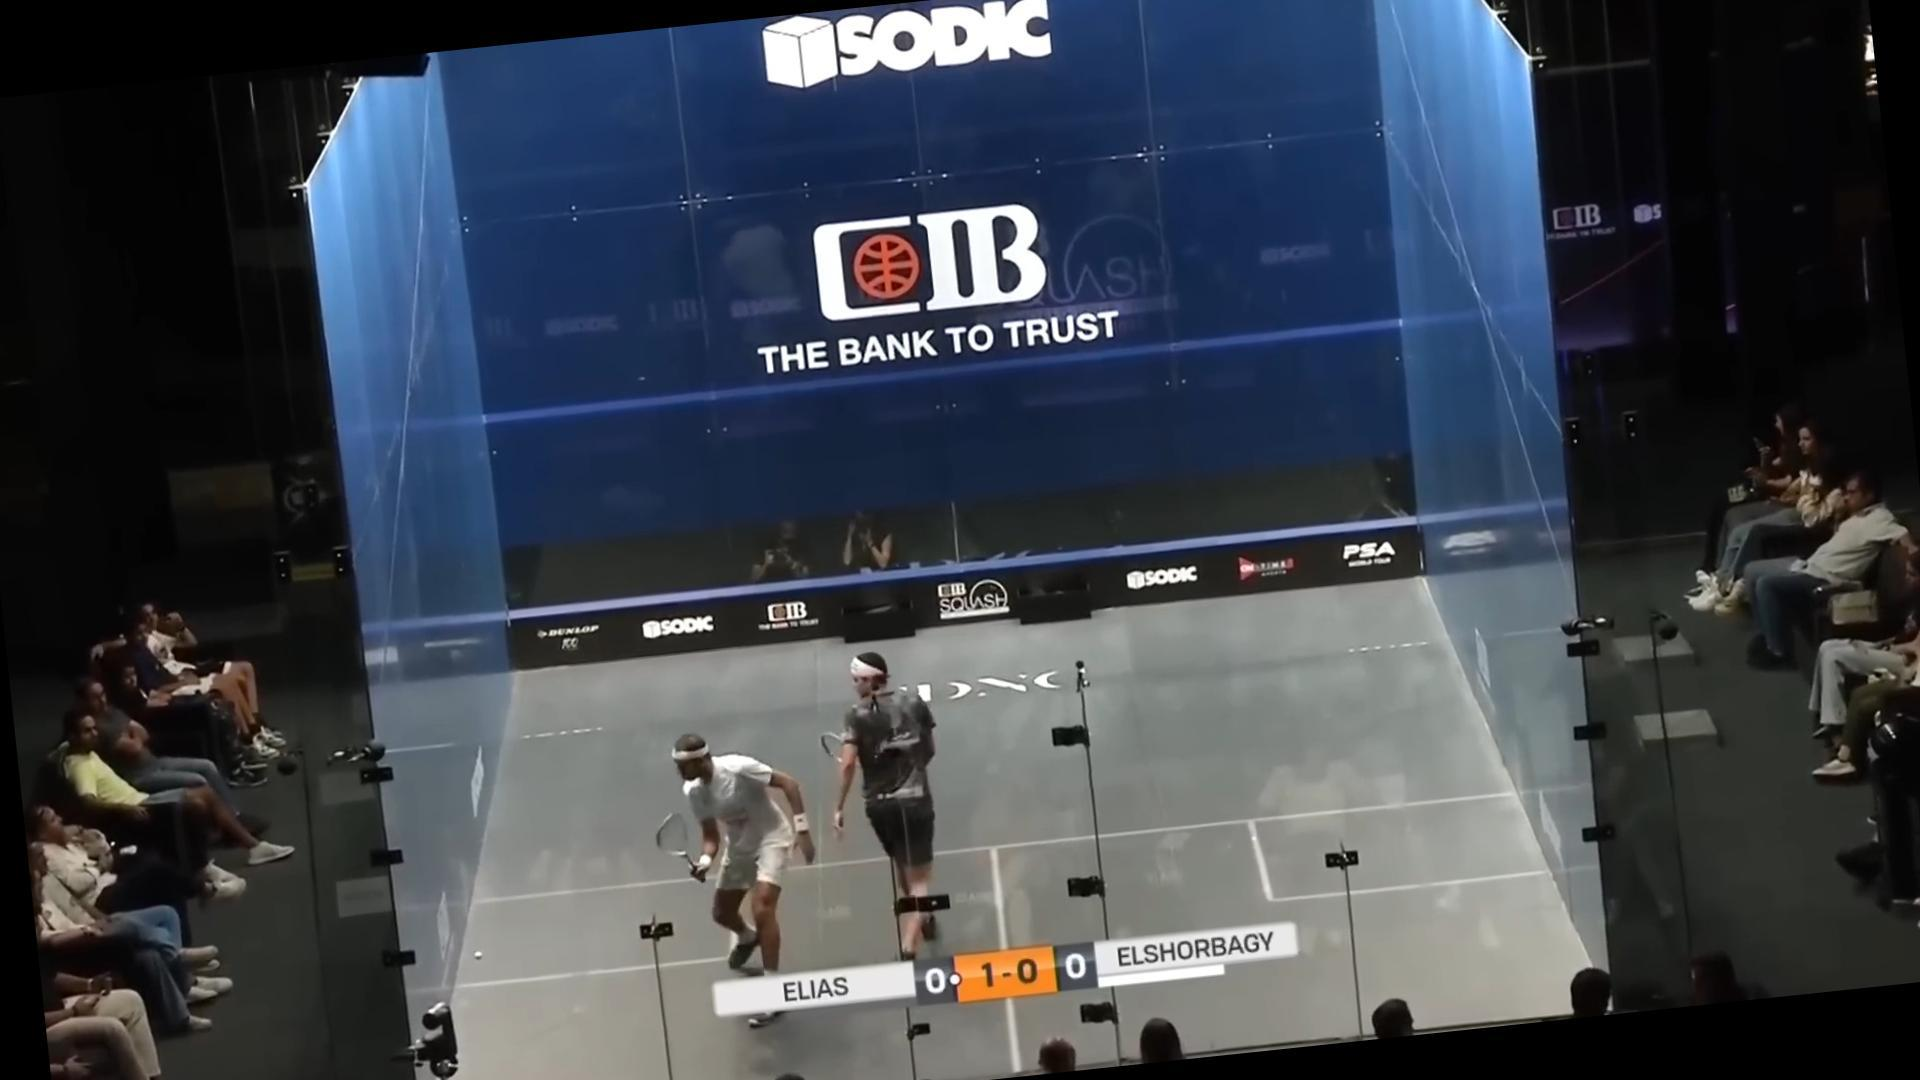Squash-Ball: (459, 935, 495, 977)
